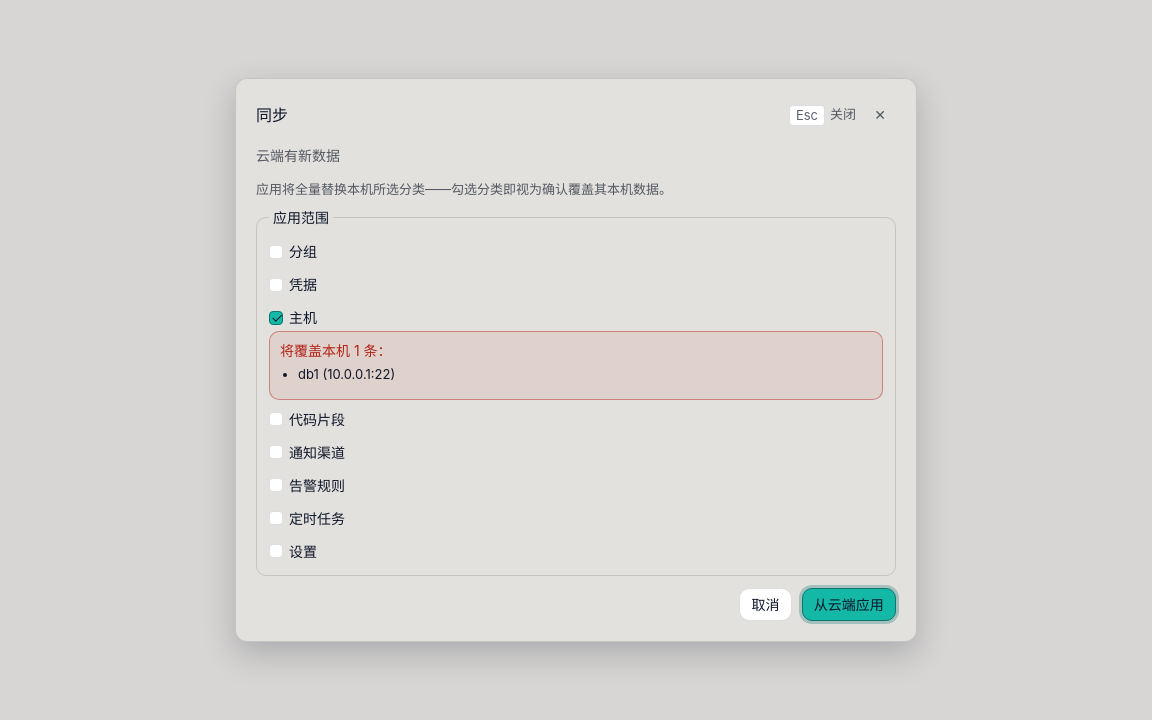
Scenario: SyncDialog › pull 态：勾选分类即亮出本机将被覆盖清单（红线延伸）；按勾选范围 pull → 完成面带回执
expect the element with test id "sync-pull-panel" is shown: met, box 256,145 -> 896,621
expect the element with test id "pull-overwrite-hosts" is shown: met, box 269,331 -> 883,400
# 勾选 settings → 立刻亮出其本机数据
Step 1. Click the checkbox with test id "restore-scope-settings" → (276, 551), box 269,544 -> 283,558
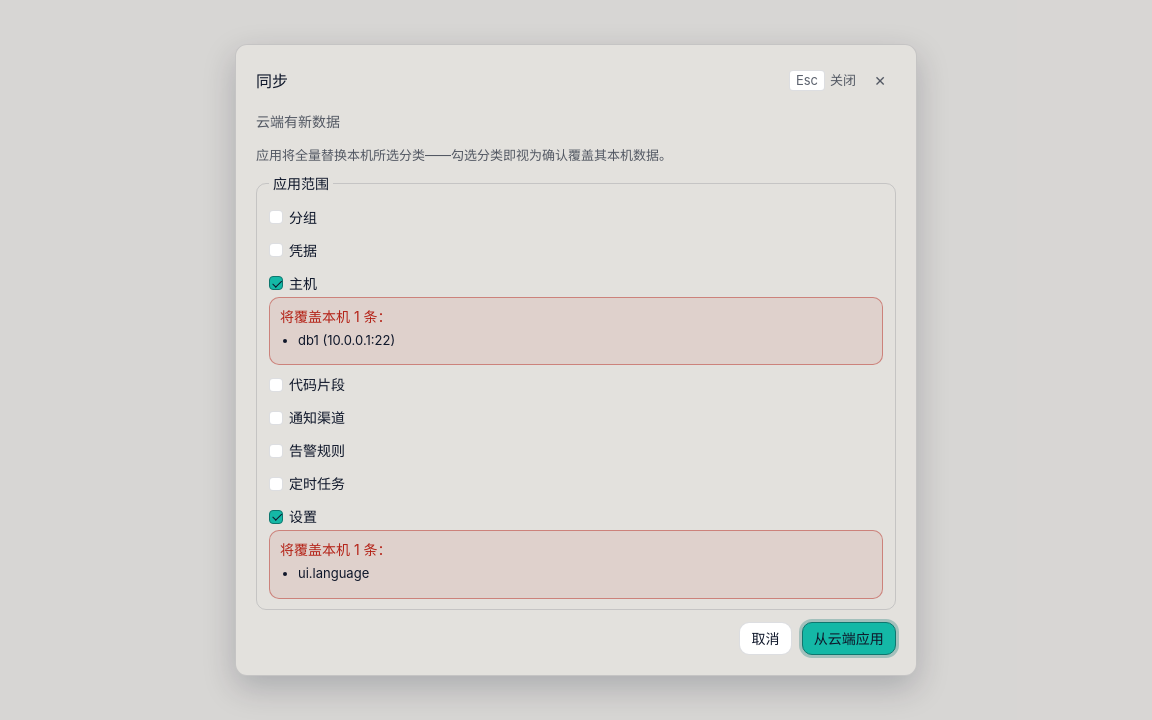
expect the element with test id "pull-overwrite-settings" shows "ui.language": met, box 298,565 -> 369,581
Step 2. Click the button with test id "sync-pull-start" → (849, 638), box 802,622 -> 896,655
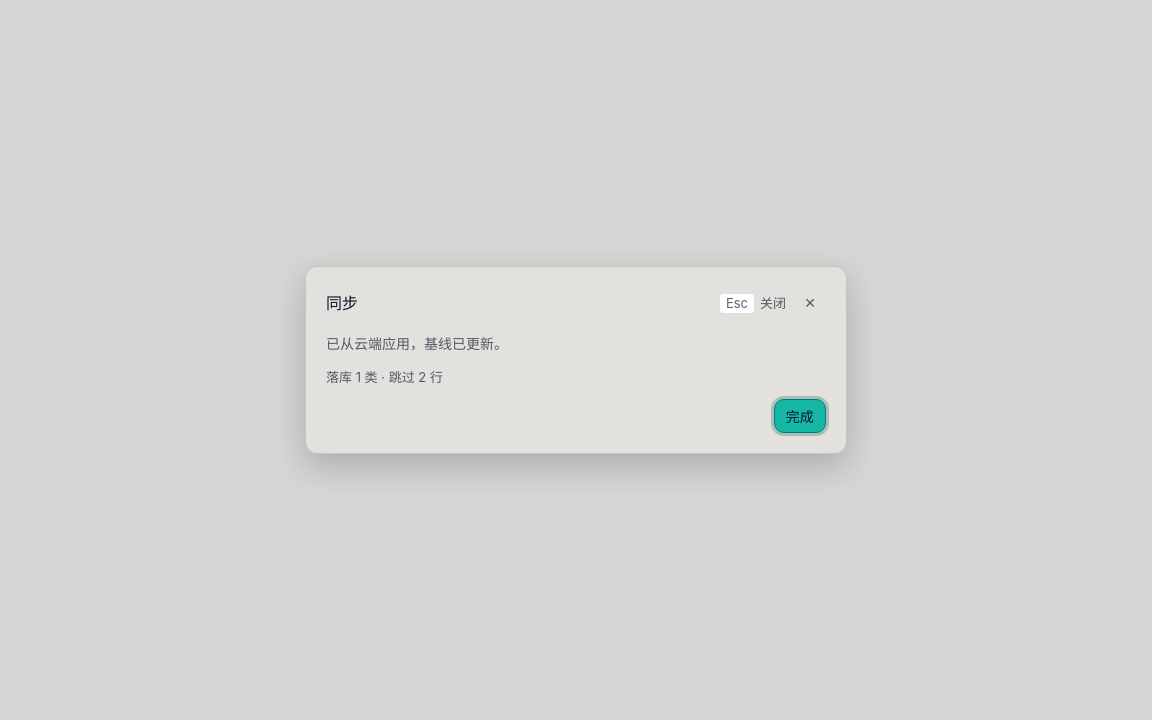
expect the text with test id "sync-done-report" shows "1": met, box 326,370 -> 443,386
